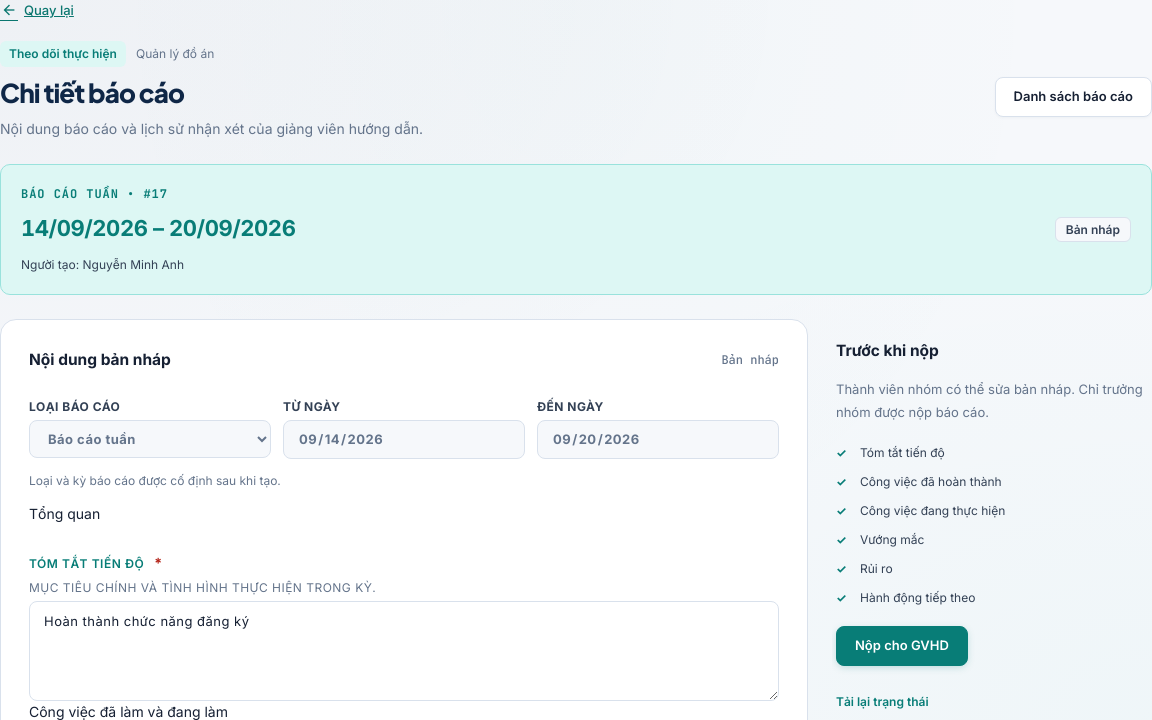
Scenario: Progress reports workflow › keeps the unsaved edit guard when using Back from a direct report link
The image size is (1152, 720).
Replace the text in the text box labelled "Tóm tắt tiến độ" with "Nội dung chưa lưu": (404, 651) top-left (29, 601), bottom-right (779, 701)
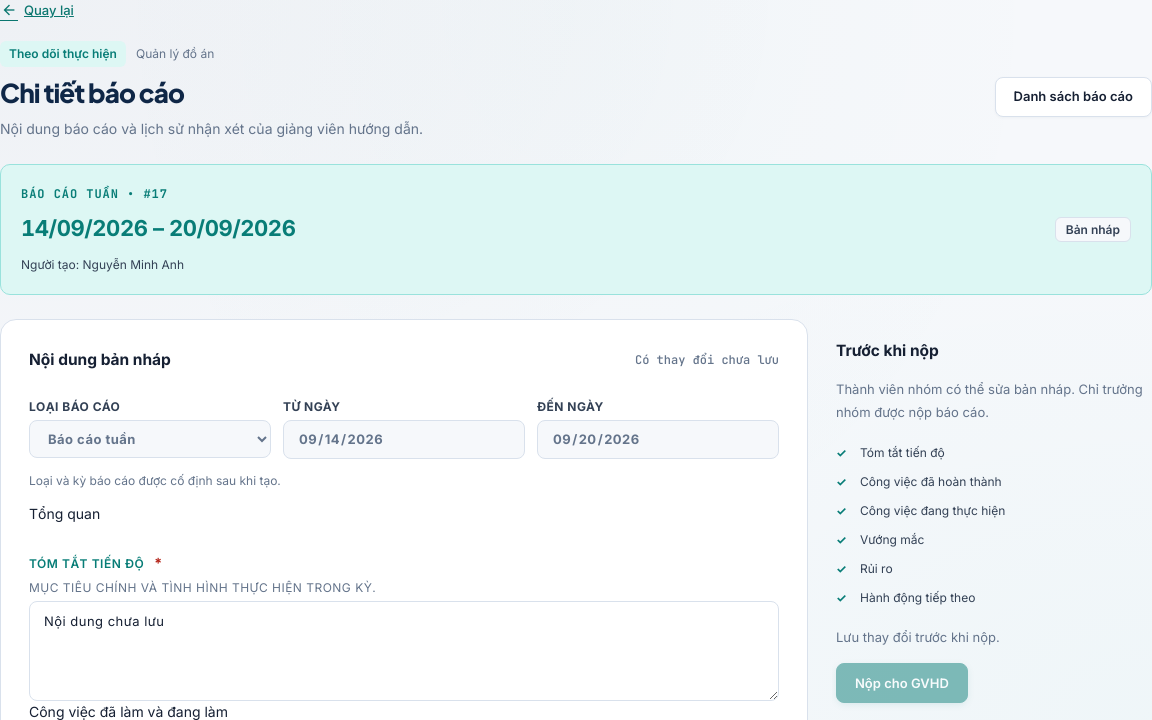
Click the link "Quay lại": (37, 10) top-left (0, 0), bottom-right (74, 21)
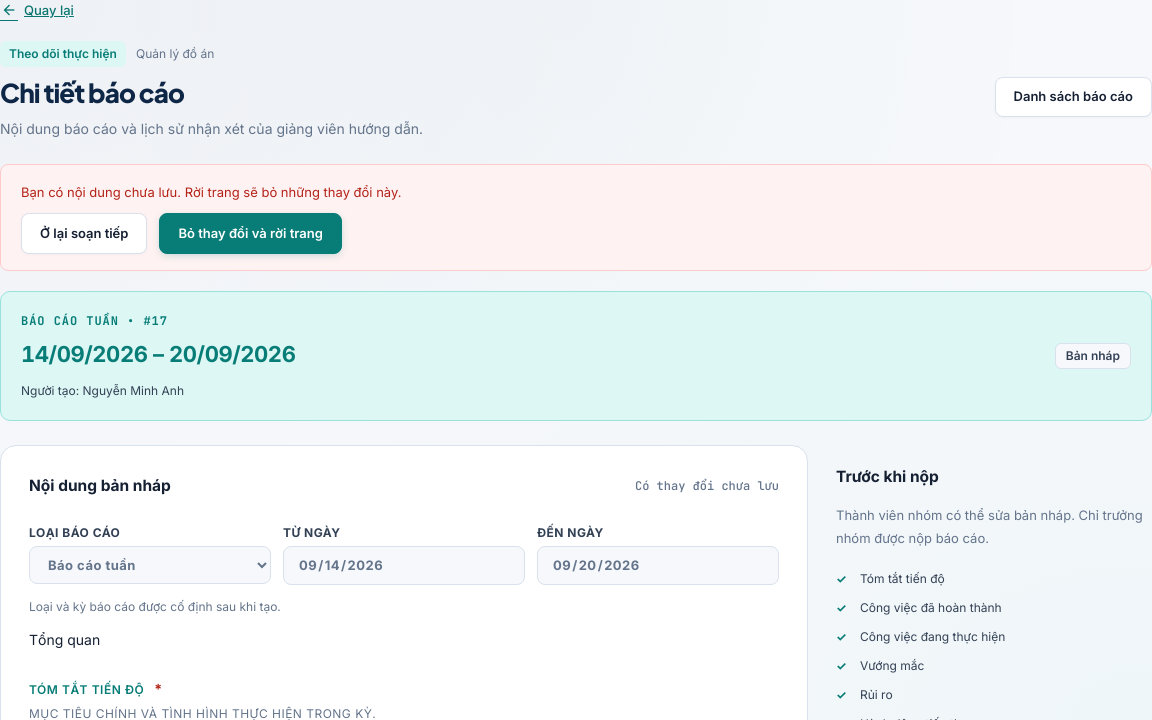
Check: the text "Bạn có nội dung chưa lưu. Rời trang sẽ bỏ những thay đổi này." is shown, box top-left (21, 184), bottom-right (402, 200)
Click the button "Ở lại soạn tiếp": (84, 234) top-left (21, 214), bottom-right (147, 254)
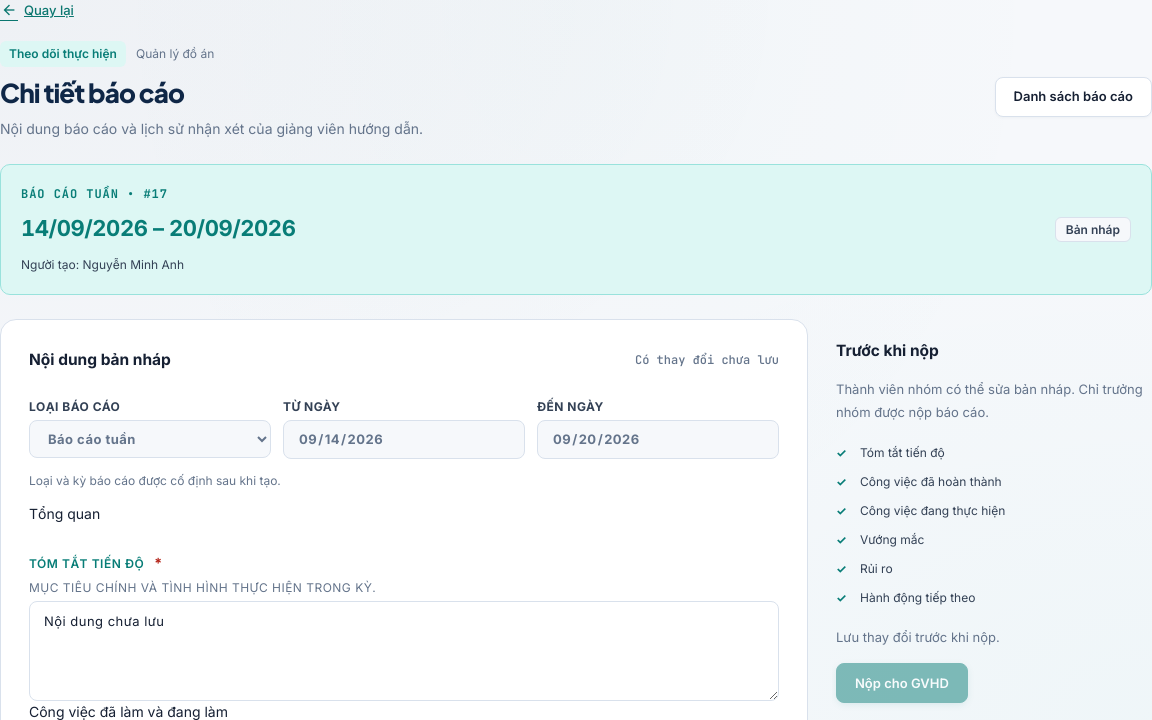
Click the link "Quay lại": (37, 10) top-left (0, 0), bottom-right (74, 21)
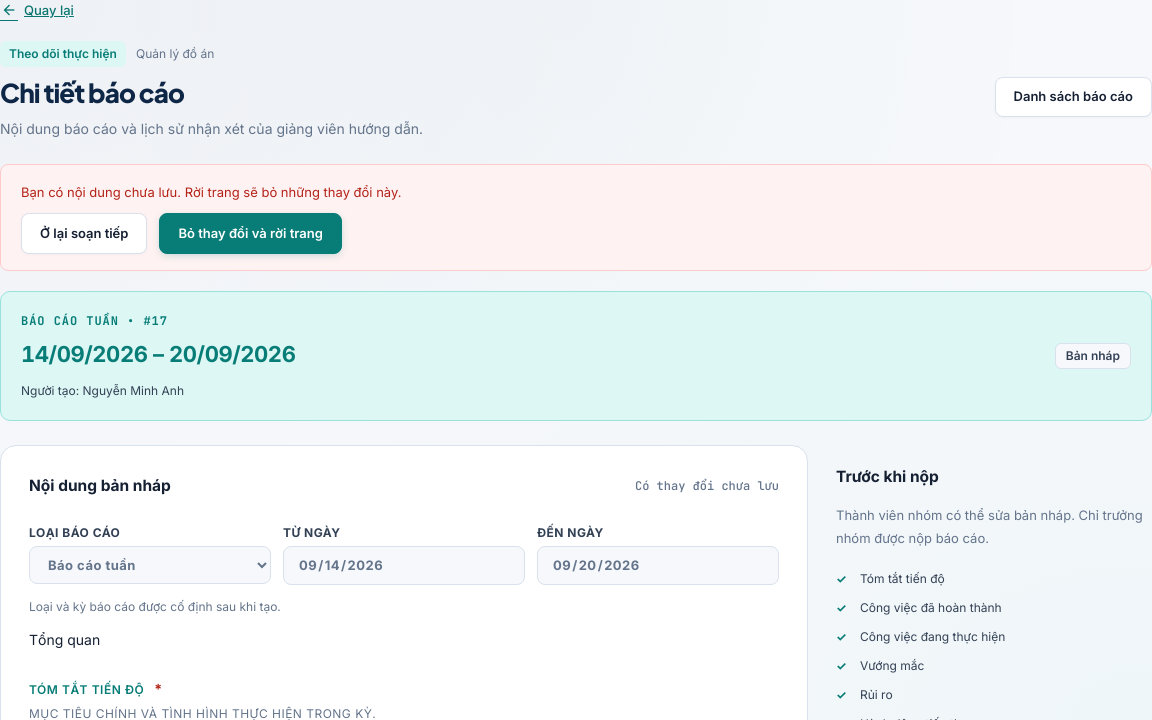
Click the button "Bỏ thay đổi và rời trang": (251, 234) top-left (159, 214), bottom-right (342, 254)
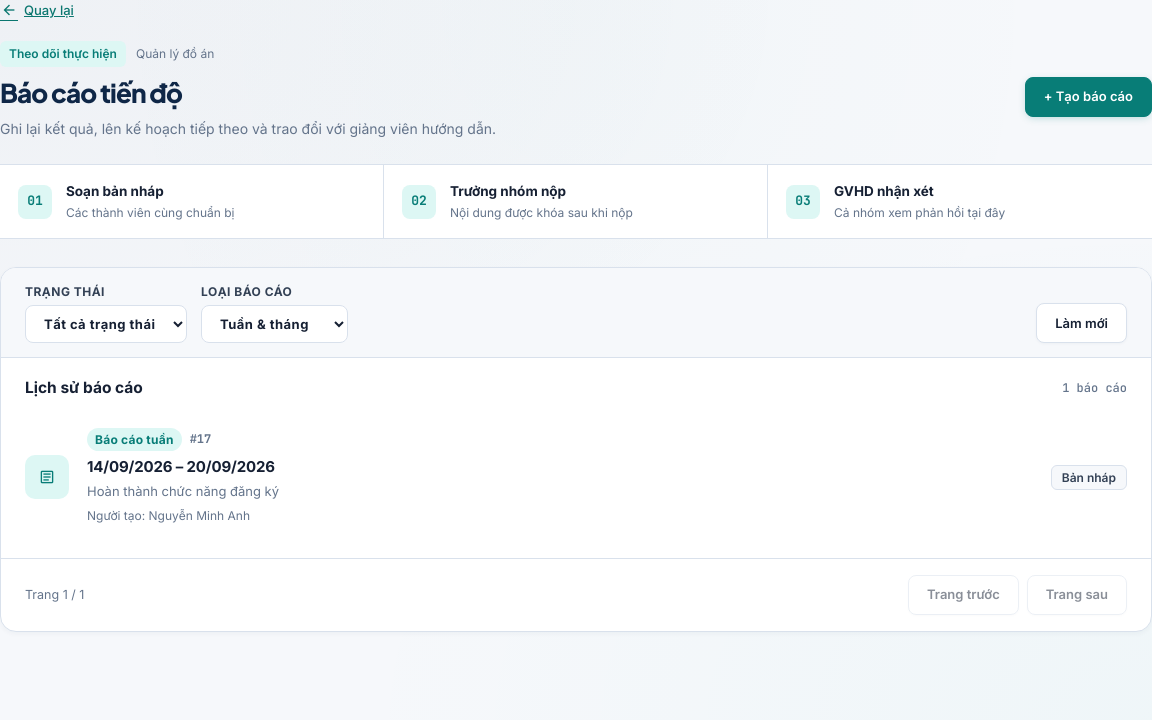
Check: the heading "Lịch sử báo cáo" is shown, box top-left (25, 376), bottom-right (143, 401)
